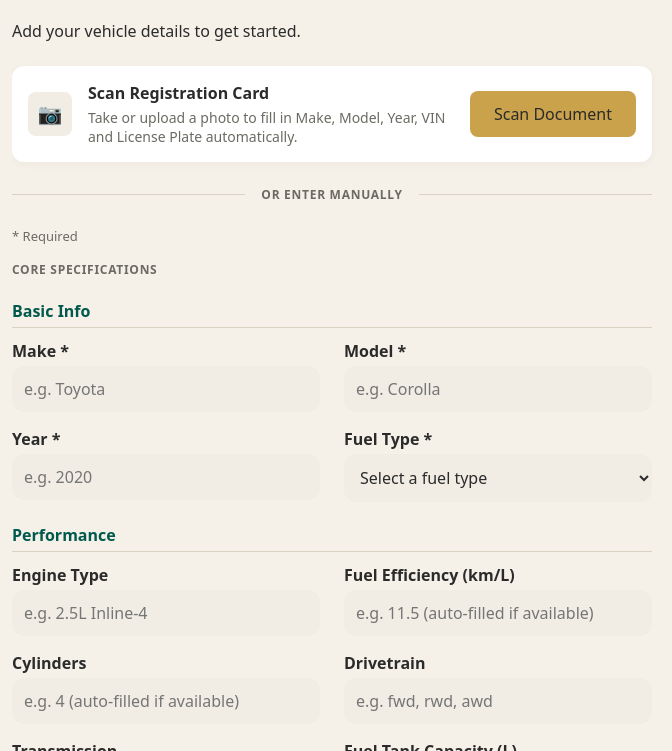
Test case: CarOnboardingPage › shows a validation error and does not submit for a too-old year (edge case)
Type "Toyota" into the field labelled "Make *" at (166,389), box [12, 366, 320, 412]
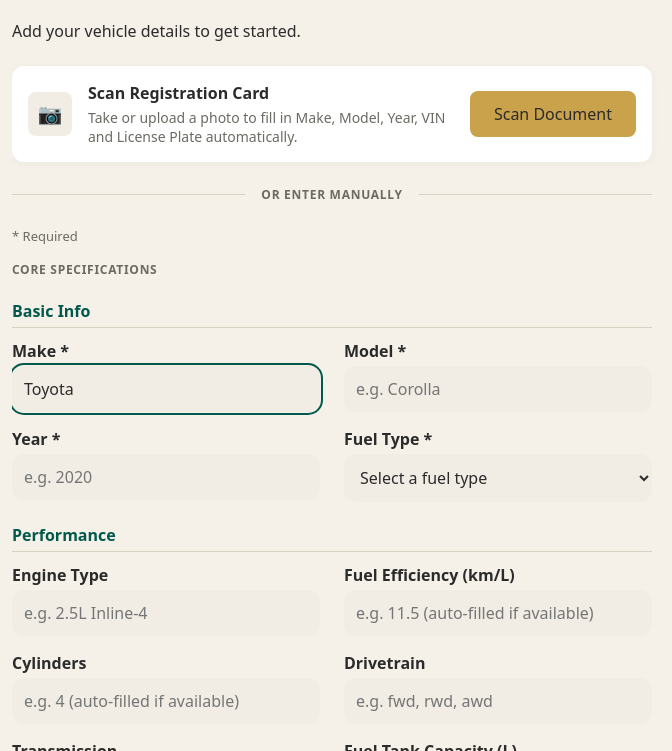
Type "Corolla" into the field labelled "Model *" at (498,389), box [344, 366, 652, 412]
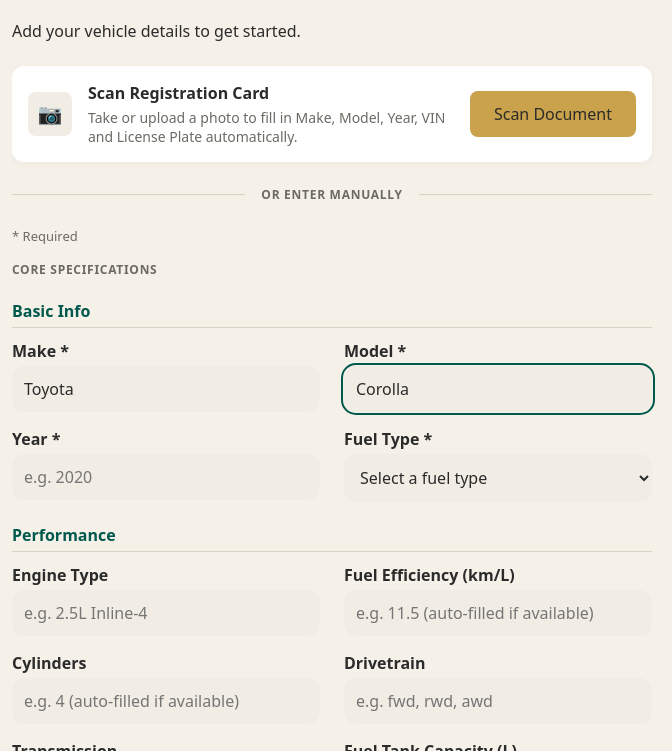
Type "1899" into the number field labelled "Year *" at (166,477), box [12, 454, 320, 500]
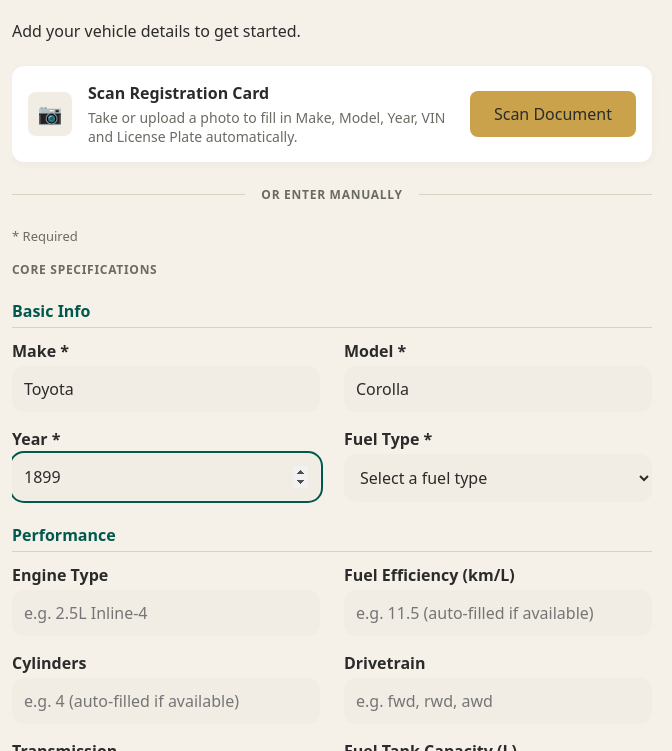
Select "Gasoline" in the dropdown labelled "Fuel Type *" at (498,478), box [344, 454, 652, 502]
(page scrolled)
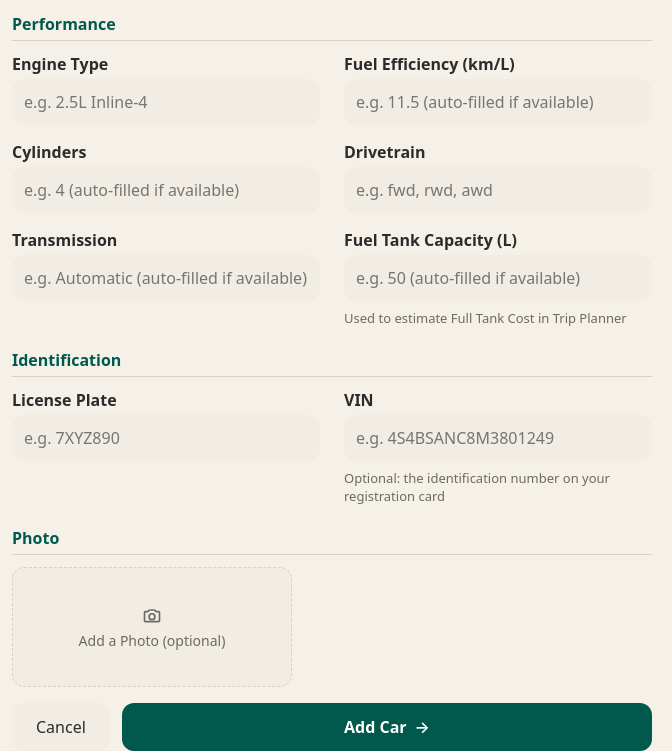
Click the button "Add Car →" at (387,727), box [122, 703, 652, 750]
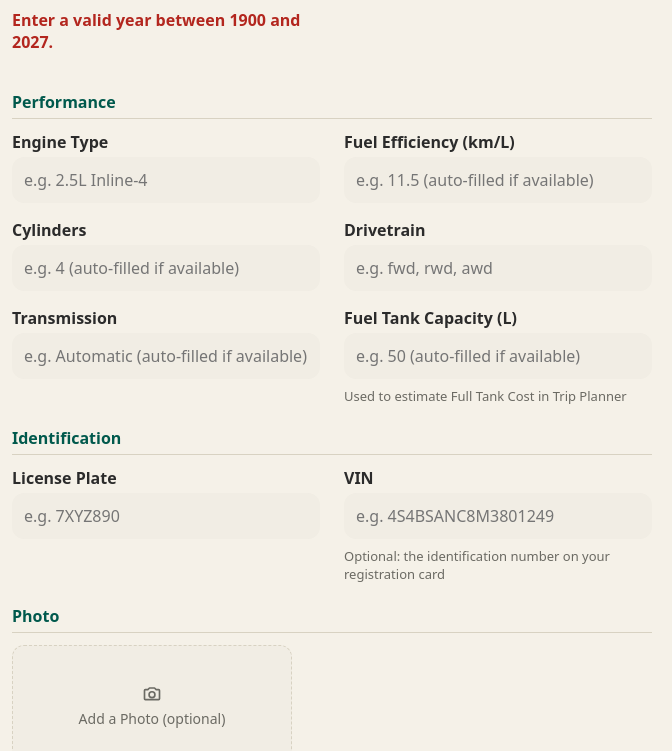
Expected: the text "Enter a valid year between 1900 and 2027." is shown, [12, 9, 320, 53]
